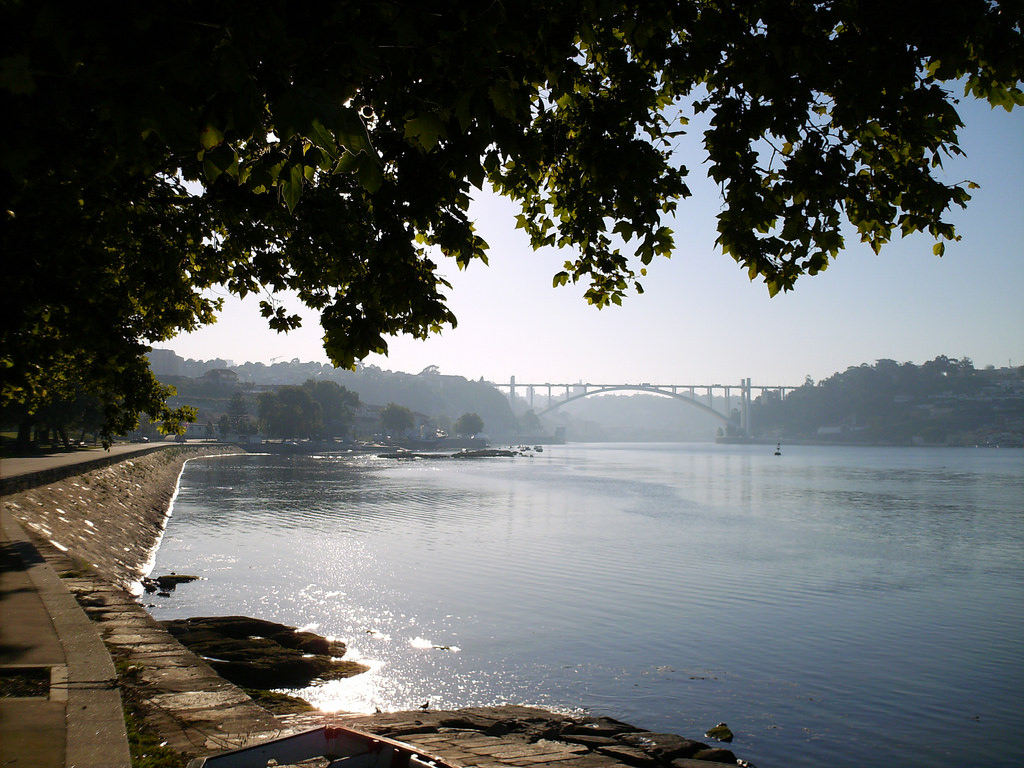arrabida: (465, 375, 811, 432)
